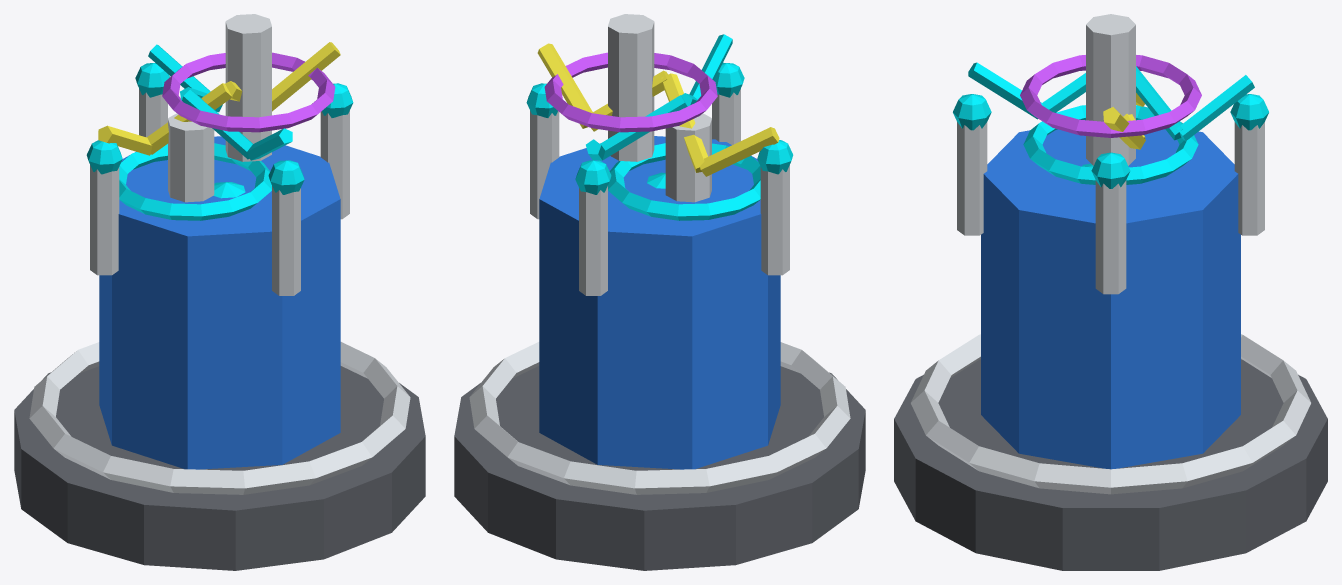
Rendered from TD_LightningTower_T2.fbx.
3 renders of one model, left to right at view 1: azimuth 30°, elevation 25°; view 2: azimuth 150°, elevation 25°; view 3: azimuth 270°, elevation 25°, orthographic. The views are drawn at different scales.
Visible parts, largest first — view 1: TD_LightningTower_T2_Body, TD_LightningTower_T2_Base, TD_LightningTower_T2_SilverProtectionBase, TD_LightningTower_T2_Coil_Upper, TD_LightningTower_T2_PurpleAccentRing, TD_LightningTower_T2_CyanCoilRing_Lower, TD_LightningTower_T2_Coil_Lower, TD_LightningTower_T2_Rod_03, TD_LightningTower_T2_Rod_04, TD_LightningTower_T2_Rod_01, TD_LightningTower_T2_Bolt_01_Segment_04, TD_LightningTower_T2_Rod_02 (+9 smaller); view 2: TD_LightningTower_T2_Body, TD_LightningTower_T2_Base, TD_LightningTower_T2_SilverProtectionBase, TD_LightningTower_T2_Coil_Upper, TD_LightningTower_T2_PurpleAccentRing, TD_LightningTower_T2_CyanCoilRing_Lower, TD_LightningTower_T2_Rod_03, TD_LightningTower_T2_Rod_02, TD_LightningTower_T2_Coil_Lower, TD_LightningTower_T2_Rod_01, TD_LightningTower_T2_Bolt_01_Segment_01, TD_LightningTower_T2_Rod_04 (+8 smaller); view 3: TD_LightningTower_T2_Body, TD_LightningTower_T2_Base, TD_LightningTower_T2_SilverProtectionBase, TD_LightningTower_T2_Coil_Upper, TD_LightningTower_T2_PurpleAccentRing, TD_LightningTower_T2_CyanCoilRing_Lower, TD_LightningTower_T2_Rod_01, TD_LightningTower_T2_Rod_02, TD_LightningTower_T2_Rod_04, TD_LightningTower_T2_Bolt_02_Segment_01, TD_LightningTower_T2_Bolt_02_Segment_04, TD_LightningTower_T2_Rod_04_Tip (+5 smaller).
Part boxes in pixels (x1,y1,x2,y2): TD_LightningTower_T2_Body: (99,136,340,469); TD_LightningTower_T2_Base: (14,366,425,570); TD_LightningTower_T2_SilverProtectionBase: (29,342,410,494); TD_LightningTower_T2_Coil_Upper: (225,14,271,161); TD_LightningTower_T2_PurpleAccentRing: (162,52,335,132); TD_LightningTower_T2_CyanCoilRing_Lower: (119,143,271,220); TD_LightningTower_T2_Coil_Lower: (168,113,214,202); TD_LightningTower_T2_Rod_03: (90,165,119,275); TD_LightningTower_T2_Rod_04: (272,186,300,295); TD_LightningTower_T2_Rod_01: (320,110,349,219); TD_LightningTower_T2_Bolt_01_Segment_04: (272,42,340,111); TD_LightningTower_T2_Rod_02: (139,89,167,137); TD_LightningTower_T2_Body: (539,136,780,469); TD_LightningTower_T2_Base: (454,366,865,570); TD_LightningTower_T2_SilverProtectionBase: (469,342,850,494); TD_LightningTower_T2_Coil_Upper: (608,14,654,161); TD_LightningTower_T2_PurpleAccentRing: (544,52,717,132); TD_LightningTower_T2_CyanCoilRing_Lower: (608,143,760,220); TD_LightningTower_T2_Rod_03: (760,165,789,275); TD_LightningTower_T2_Rod_02: (579,186,607,295); TD_LightningTower_T2_Coil_Lower: (665,113,711,202); TD_LightningTower_T2_Rod_01: (530,110,559,219); TD_LightningTower_T2_Bolt_01_Segment_01: (700,127,779,176); TD_LightningTower_T2_Rod_04: (712,89,740,145); TD_LightningTower_T2_Body: (981,129,1240,469); TD_LightningTower_T2_Base: (894,359,1327,570); TD_LightningTower_T2_SilverProtectionBase: (911,334,1310,494); TD_LightningTower_T2_Coil_Upper: (1086,14,1135,165); TD_LightningTower_T2_PurpleAccentRing: (1020,55,1201,137); TD_LightningTower_T2_CyanCoilRing_Lower: (1023,105,1198,184); TD_LightningTower_T2_Rod_01: (1095,180,1126,294); TD_LightningTower_T2_Rod_02: (1234,122,1264,235); TD_LightningTower_T2_Rod_04: (957,122,987,235); TD_LightningTower_T2_Bolt_02_Segment_01: (1176,75,1254,141); TD_LightningTower_T2_Bolt_02_Segment_04: (968,62,1042,119); TD_LightningTower_T2_Rod_04_Tip: (953,94,991,130).
Size of the model in its own units: 0.9749 by 1.2 by 1.
